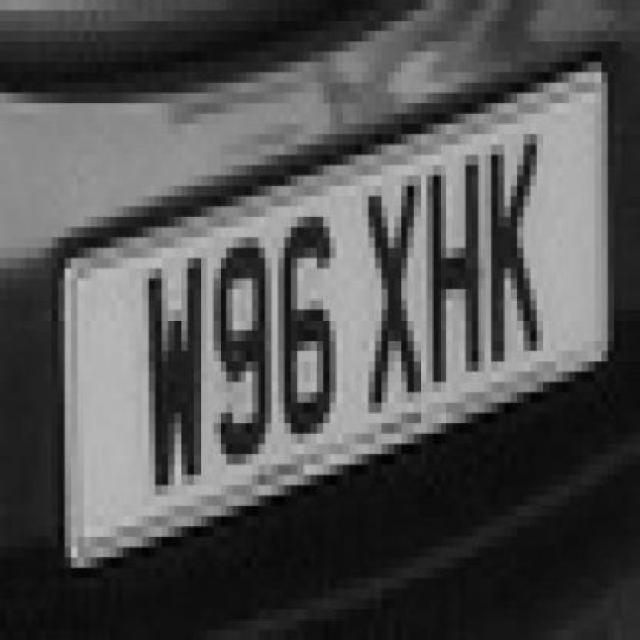licenseplate: (30, 25, 619, 586)
